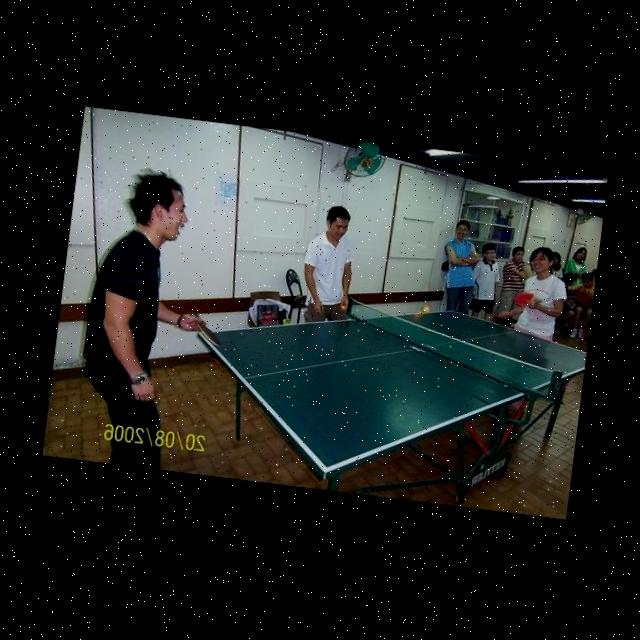ping-pong-ball: (415, 305, 429, 320)
